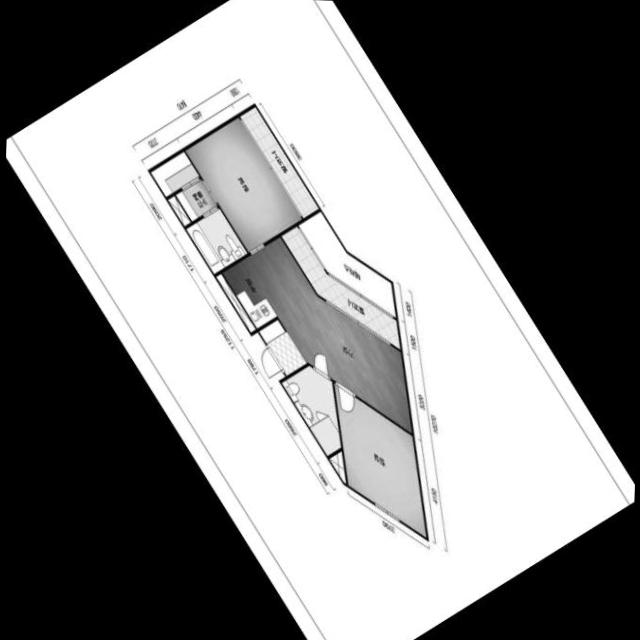background: (6, 0, 634, 640)
space_balconi: (281, 225, 400, 349), (298, 210, 395, 317), (239, 106, 318, 217)
space_bedroom: (185, 116, 302, 251), (334, 382, 426, 536)
space_dressroom: (150, 150, 217, 220)
space_front: (258, 318, 306, 375)
space_kitchen: (222, 259, 277, 327)
space_living_room: (242, 236, 411, 432)
space_other: (215, 272, 255, 332), (167, 195, 190, 225), (329, 450, 346, 483)
space_toilet: (281, 365, 341, 455), (186, 207, 247, 273)
